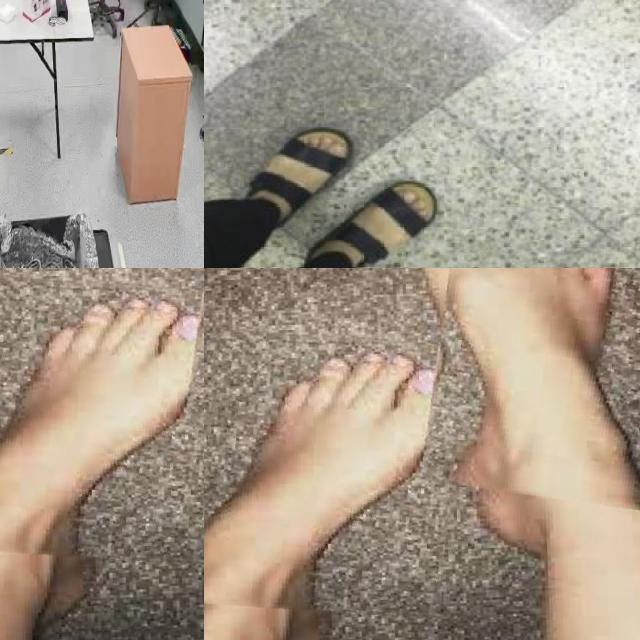Barefoots: (204, 345, 449, 640), (0, 291, 204, 612), (423, 268, 640, 552)
Sandals: (220, 126, 356, 217)
